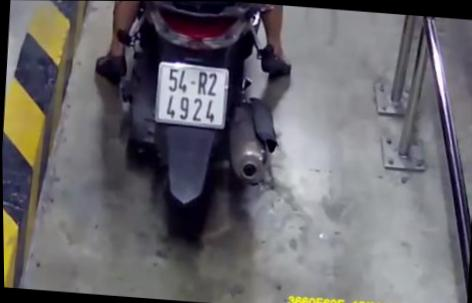LP: (150, 57, 232, 131)
